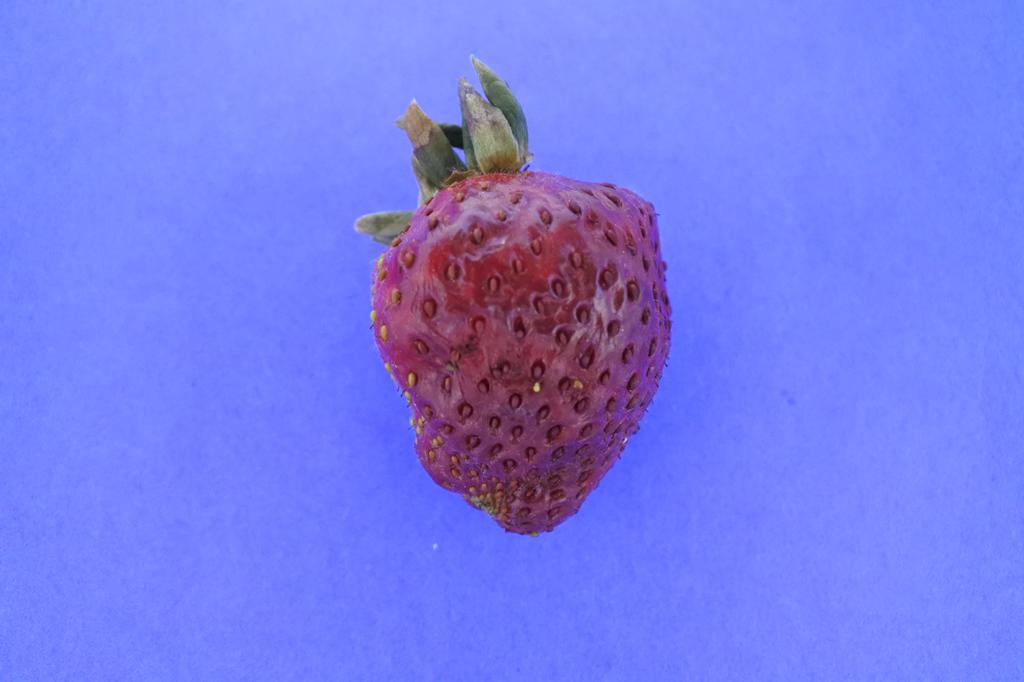red strawberry: (352, 55, 672, 538)
